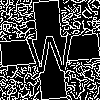W: (25, 25, 76, 74)
